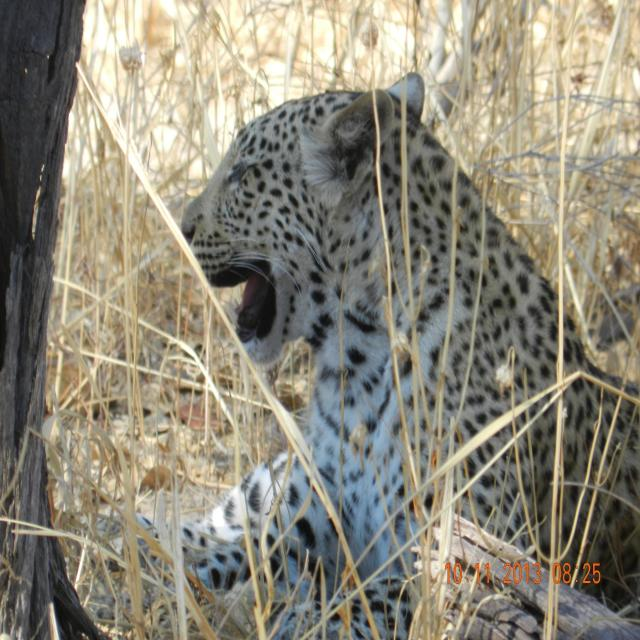Leopard: (90, 81, 628, 634)
